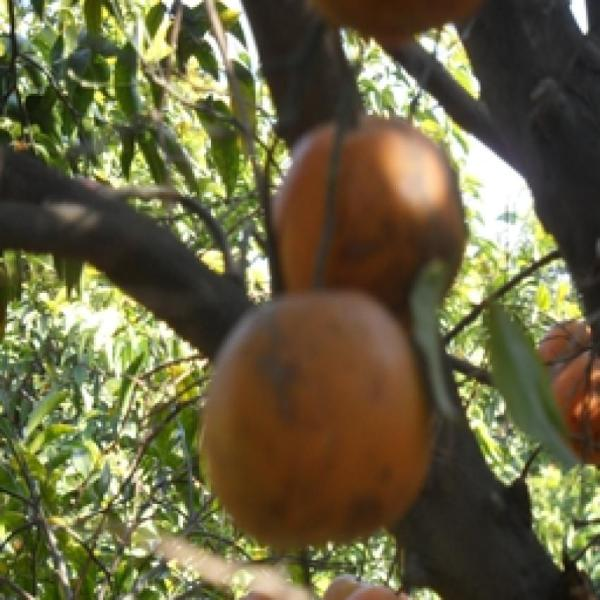Canker: (194, 292, 442, 550), (256, 108, 479, 312)
